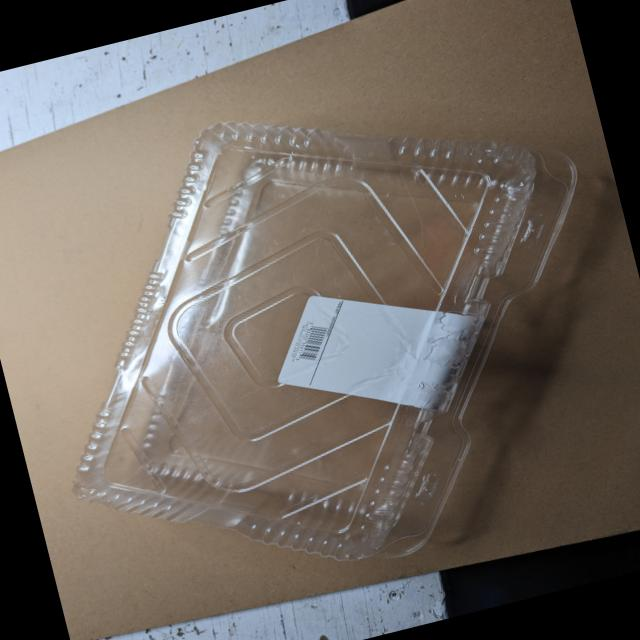Clamshell: (0, 28, 640, 640)
Label: (248, 246, 510, 465)
